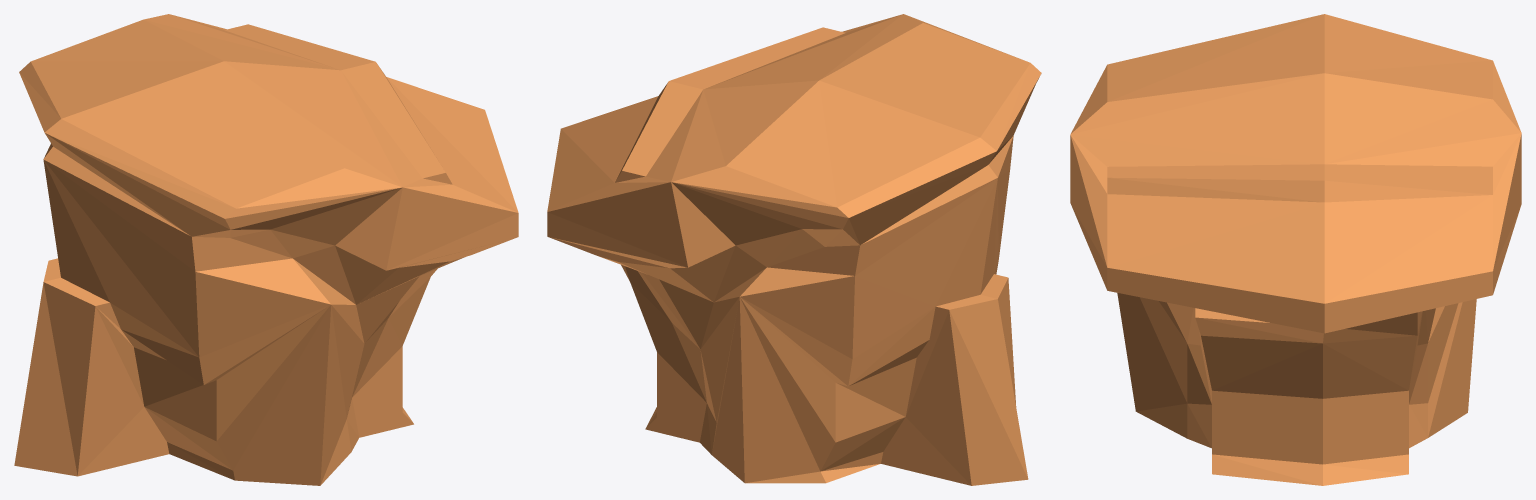
File: Rock_Large_Canyon_Eroded_16.FBX
The picture shows the model from 3 angles, left to right: view 1: azimuth 30°, elevation 25°; view 2: azimuth 150°, elevation 25°; view 3: azimuth 270°, elevation 25°; orthographic projection. The views are drawn at different scales.
Parts seen in each view (by area): view 1: Rock_Large_Canyon_Eroded_16; view 2: Rock_Large_Canyon_Eroded_16; view 3: Rock_Large_Canyon_Eroded_16.
Boxes of the visible parts, x1,y1,x2,y2 form: Rock_Large_Canyon_Eroded_16: (14, 14, 518, 485); Rock_Large_Canyon_Eroded_16: (547, 14, 1041, 485); Rock_Large_Canyon_Eroded_16: (1070, 14, 1521, 485).
Size of the model in its own units: 12913 by 9224 by 11120.
